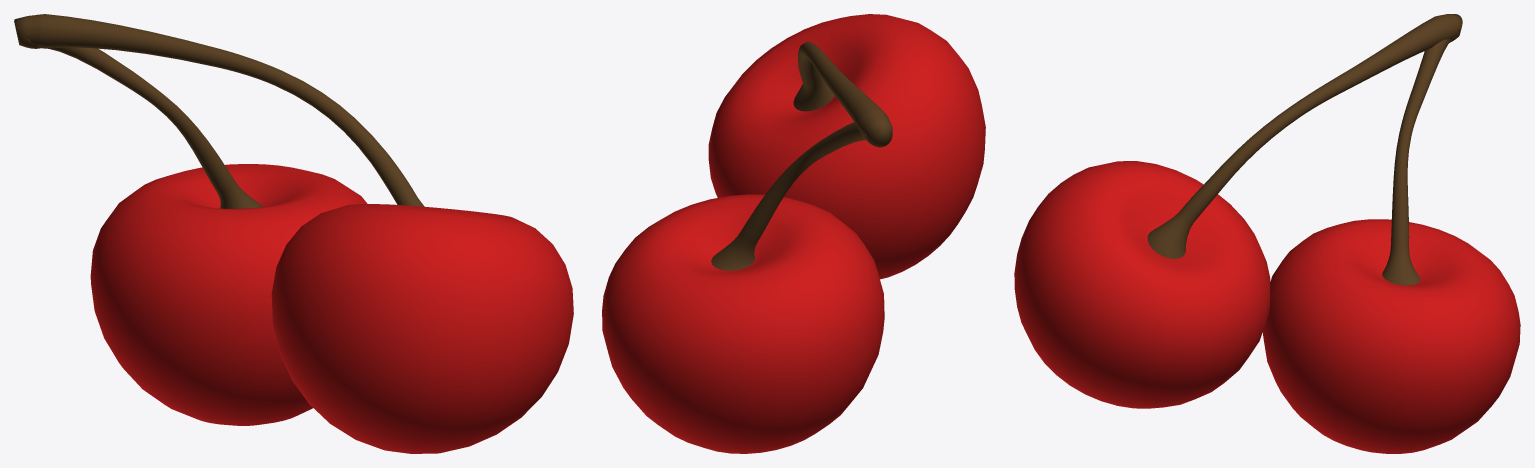
File: Kiraz_ikili.fbx
The picture shows the model from 3 angles, left to right: view 1: azimuth 30°, elevation 25°; view 2: azimuth 150°, elevation 25°; view 3: azimuth 270°, elevation 25°; orthographic projection. The views are drawn at different scales.
Parts seen in each view (by area): view 1: Kiraz_2, kiraz_1, Kiraz_sap; view 2: kiraz_1, Kiraz_2, Kiraz_sap; view 3: Kiraz_2, kiraz_1, Kiraz_sap.
Boxes of the visible parts, left/top/right/bottom form: Kiraz_2: left=271, top=204, right=573, bottom=453; kiraz_1: left=90, top=164, right=367, bottom=425; Kiraz_sap: left=14, top=14, right=424, bottom=208; kiraz_1: left=602, top=194, right=884, bottom=453; Kiraz_2: left=708, top=14, right=985, bottom=279; Kiraz_sap: left=711, top=42, right=892, bottom=270; Kiraz_2: left=1014, top=161, right=1270, bottom=408; kiraz_1: left=1262, top=219, right=1520, bottom=453; Kiraz_sap: left=1147, top=14, right=1462, bottom=285.
Bounding box in the file's own units: 0.5009 × 0.5577 × 0.7206.
